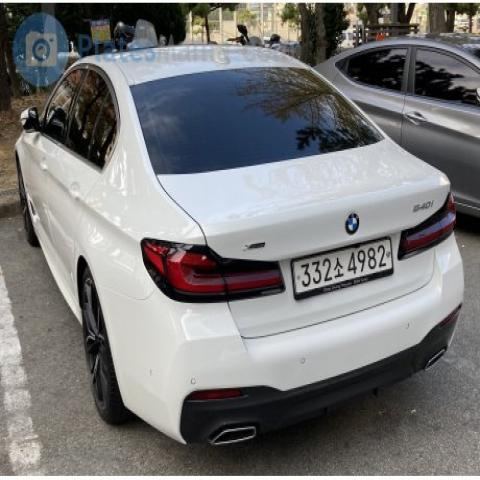LP: (289, 231, 398, 299)
